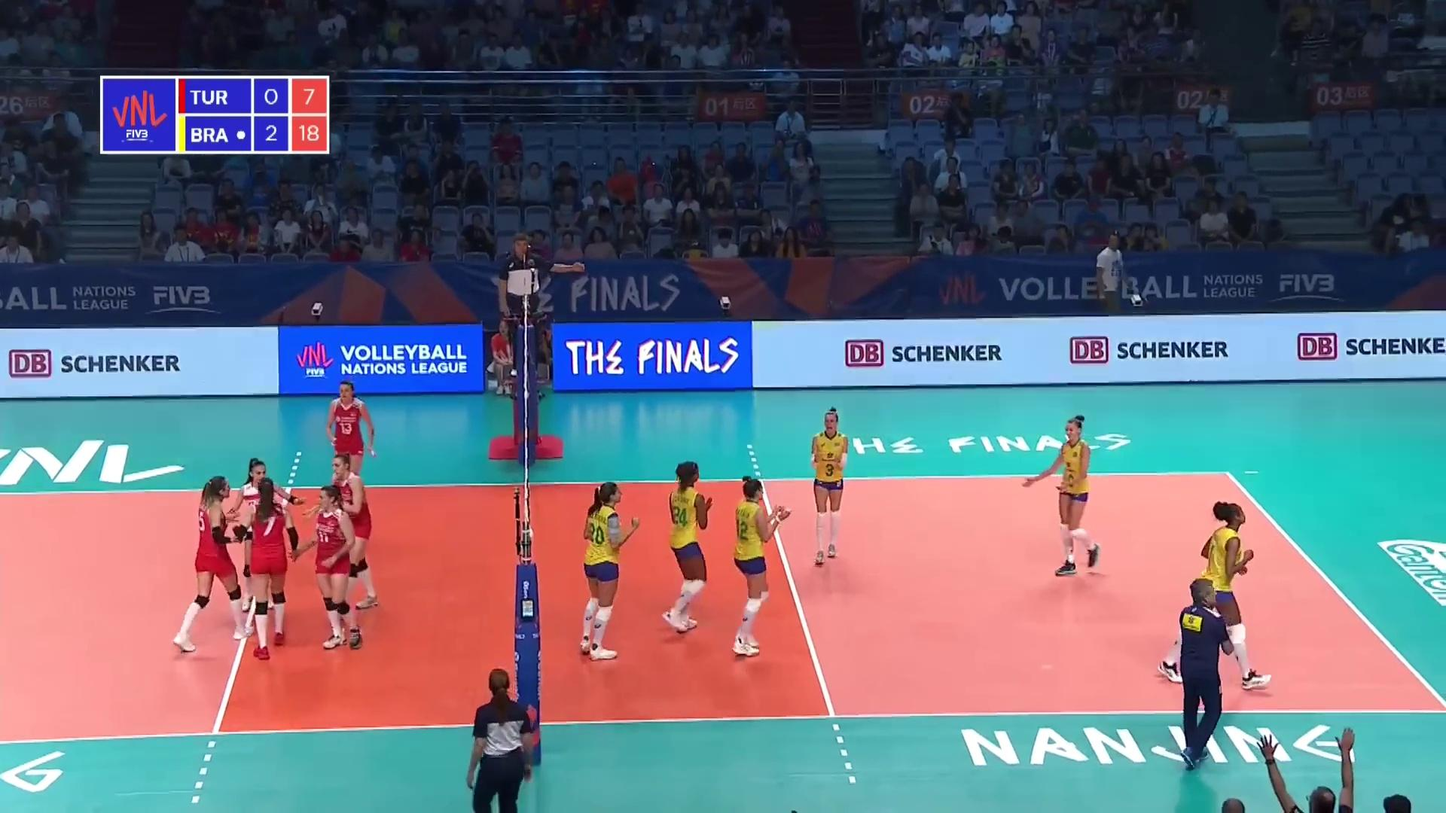player: (1160, 502, 1268, 692), (176, 476, 257, 655), (1026, 414, 1104, 575), (730, 476, 795, 659), (296, 487, 363, 651), (581, 482, 641, 660), (238, 481, 298, 656), (230, 460, 293, 611), (316, 455, 378, 605), (667, 459, 714, 637), (325, 379, 374, 521), (810, 410, 854, 568)
refree: (499, 236, 581, 373), (464, 672, 534, 813)
